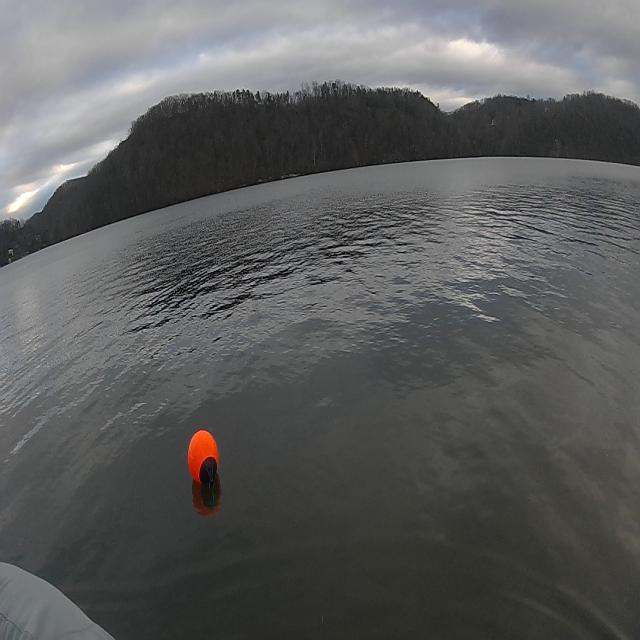Buoy: (183, 422, 227, 500)
